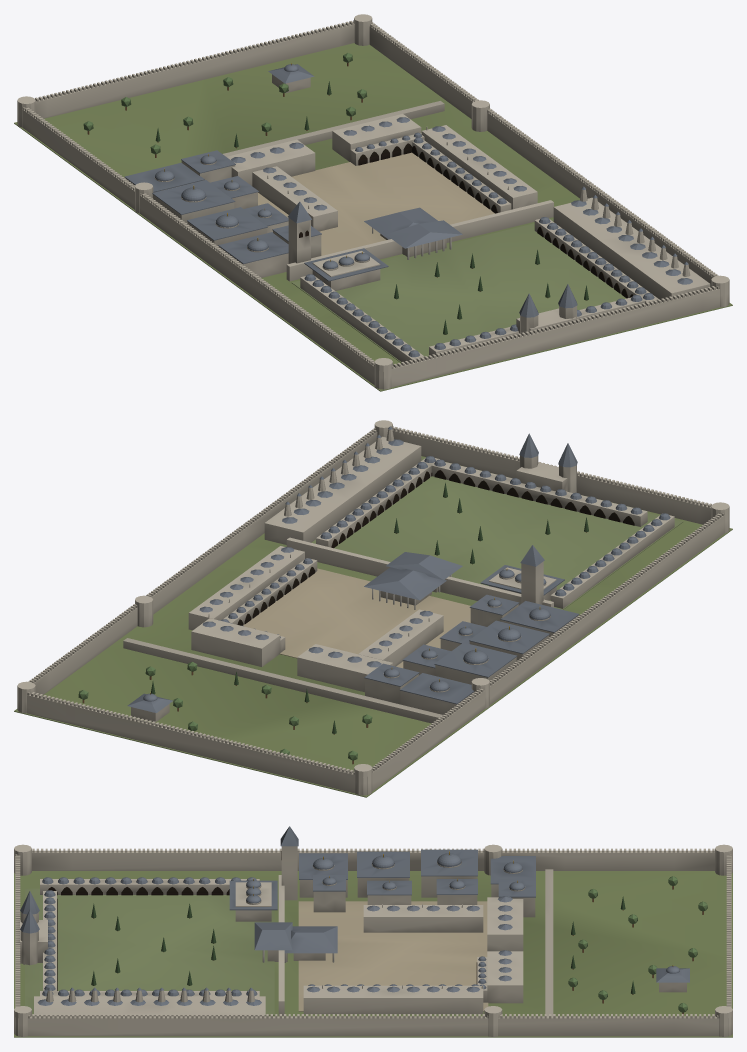
File: topkapi.glb
The picture shows the model from 3 angles, top to bottom: view 1: azimuth 30°, elevation 25°; view 2: azimuth 150°, elevation 25°; view 3: azimuth 270°, elevation 25°; orthographic projection.
Visible parts, largest first — view 1: p0_walls, p2_second court, p3_third court, p1_gates; view 2: p0_walls, p2_second court, p3_third court, p1_gates; view 3: p0_walls, p2_second court, p3_third court, p1_gates.
Boxes of the visible parts, box(x1,y1,x2,y2) form: p0_walls: box(14, 14, 732, 391); p2_second court: box(124, 150, 710, 362); p3_third court: box(83, 53, 537, 239); p1_gates: box(286, 200, 577, 334); p0_walls: box(14, 420, 732, 797); p2_second court: box(264, 426, 674, 714); p3_third court: box(78, 546, 446, 764); p1_gates: box(286, 433, 577, 607); p0_walls: box(14, 844, 732, 1037); p2_second court: box(34, 826, 535, 1016); p3_third court: box(284, 869, 707, 1016); p1_gates: box(20, 875, 292, 1015).
Bounding box in the file's own units: 200 × 39.41 × 360.
